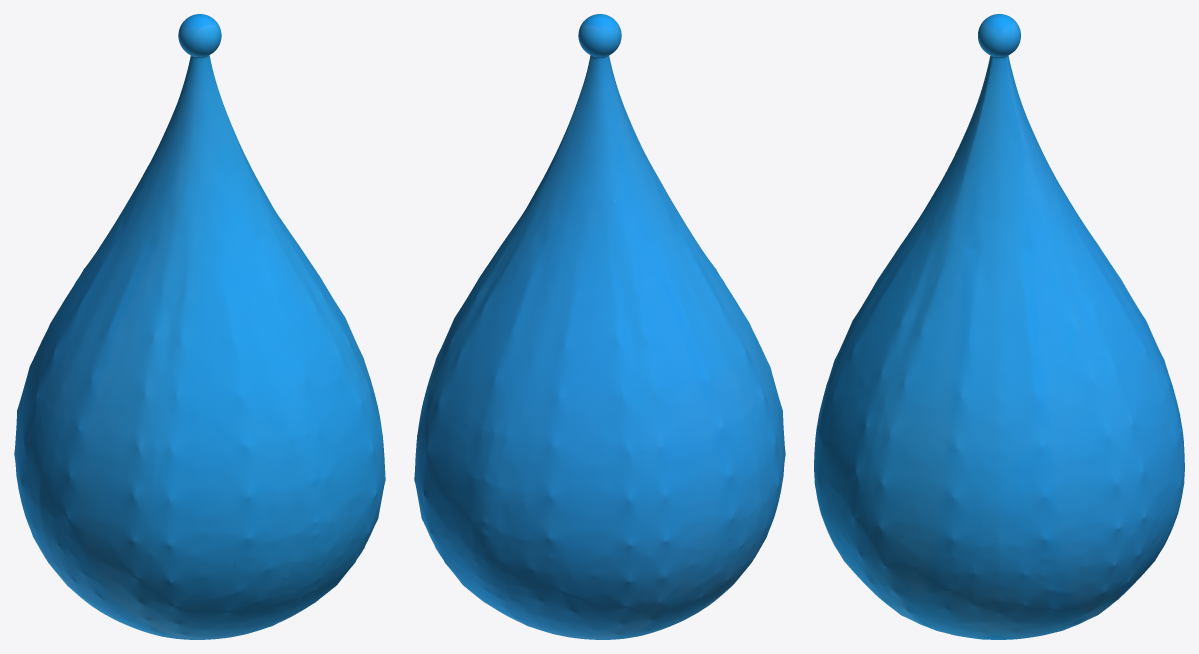
The model's file is water.glb.
3 renders of one model, left to right at view 1: azimuth 30°, elevation 25°; view 2: azimuth 150°, elevation 25°; view 3: azimuth 270°, elevation 25°, orthographic.
Bounding box in the file's own units: 1.05 × 1.9 × 1.05.
Materials: 1 (1 with a texture image).
